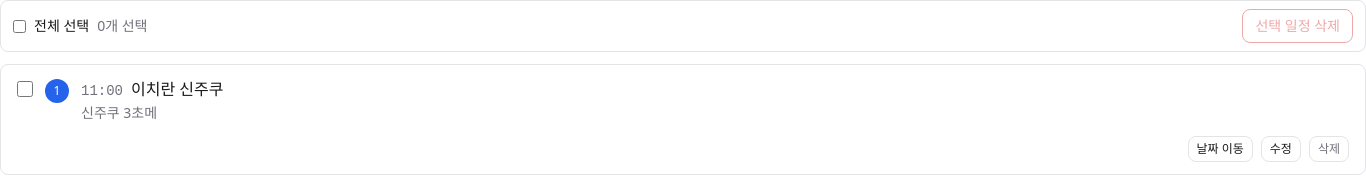
Test: ItemRow › 다중 선택 체크박스를 제공한다
Click the checkbox named "이치란 신주쿠 선택": click(25, 89) [17,81,33,97]
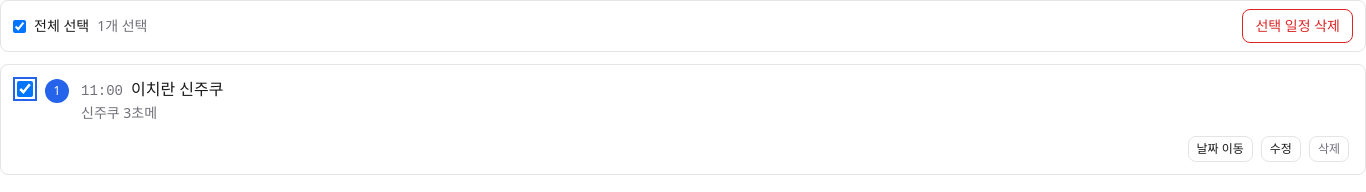
Expected: the text "1개 선택" is shown, [97,16,148,36]
Expected: the button "선택 일정 삭제" is enabled, [1242,9,1353,43]
